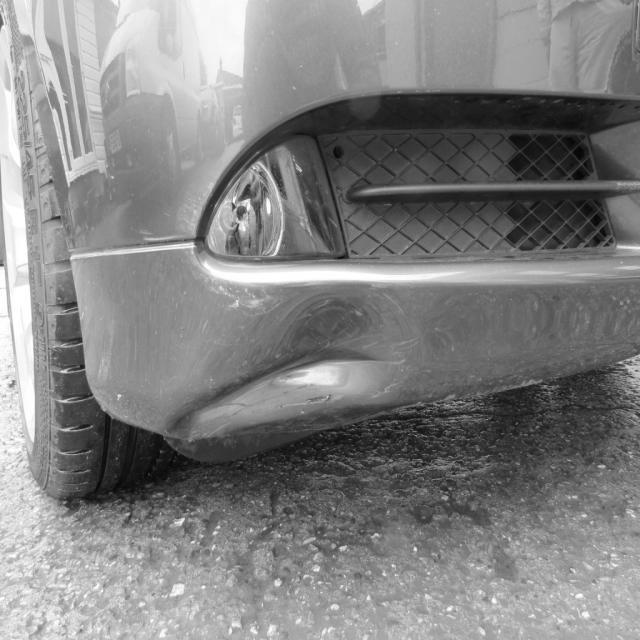dent: (163, 287, 409, 448)
scratch: (210, 379, 345, 417)
